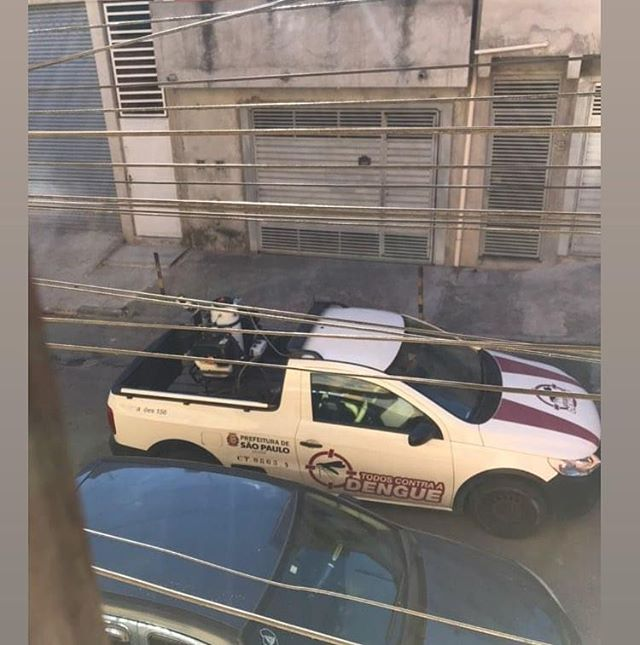car: (108, 296, 595, 530)
motor: (176, 287, 271, 400)
sidewalk: (32, 227, 602, 356)
